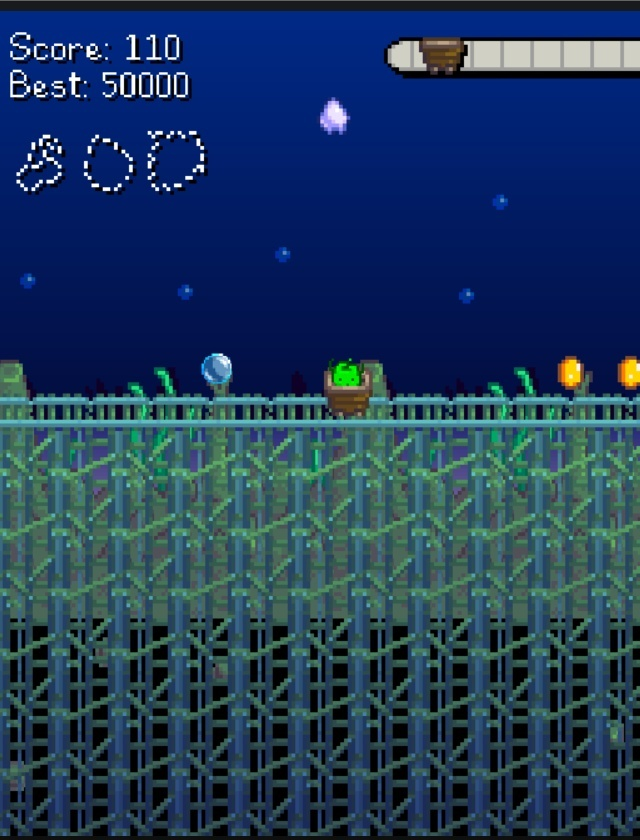bubble: (201, 353, 229, 384)
coins: (558, 357, 583, 389), (618, 356, 639, 389)
minecart: (325, 370, 370, 414)
tracks: (0, 390, 315, 431), (376, 393, 640, 434)
